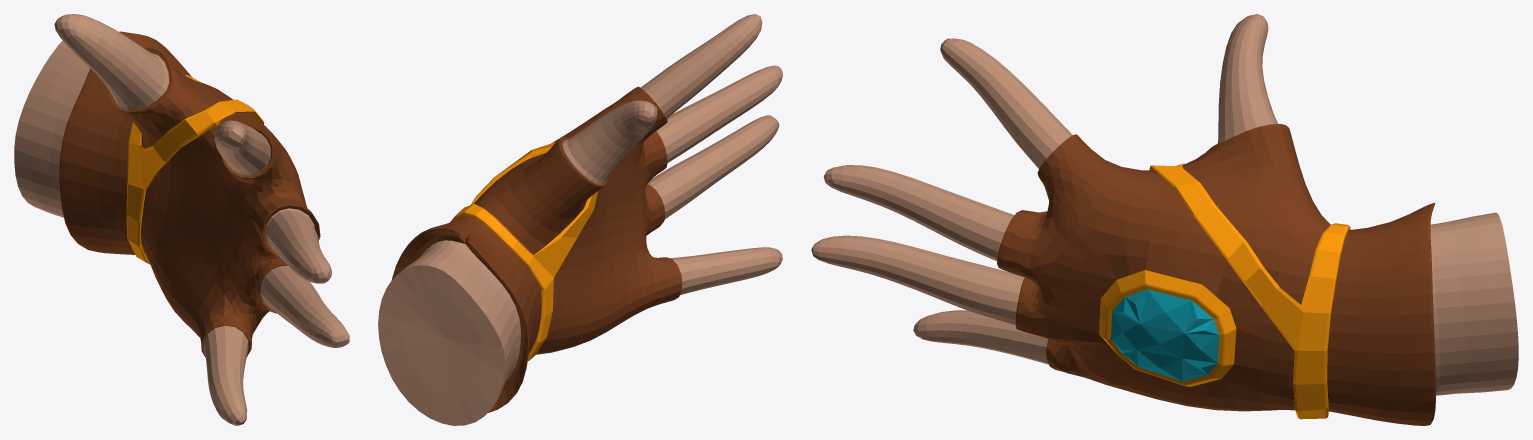
The model's file is HandSmoooth_L.fbx.
3 renders of one model, left to right at view 1: azimuth 30°, elevation 25°; view 2: azimuth 150°, elevation 25°; view 3: azimuth 270°, elevation 25°, orthographic. The views are drawn at different scales.
Parts seen in each view (by area): view 1: USub_Arm.003, USub_Arm.004; view 2: USub_Arm.003, USub_Arm.004; view 3: USub_Arm.003, USub_Arm.004.
Boxes of the visible parts, <box> form: USub_Arm.003: <box>14,14,349,425</box>; USub_Arm.004: <box>126,75,264,264</box>; USub_Arm.003: <box>378,14,782,425</box>; USub_Arm.004: <box>450,142,598,360</box>; USub_Arm.003: <box>811,14,1518,425</box>; USub_Arm.004: <box>1149,163,1350,419</box>.
Bounding box in the file's own units: 9.83 × 14.08 × 26.58.
